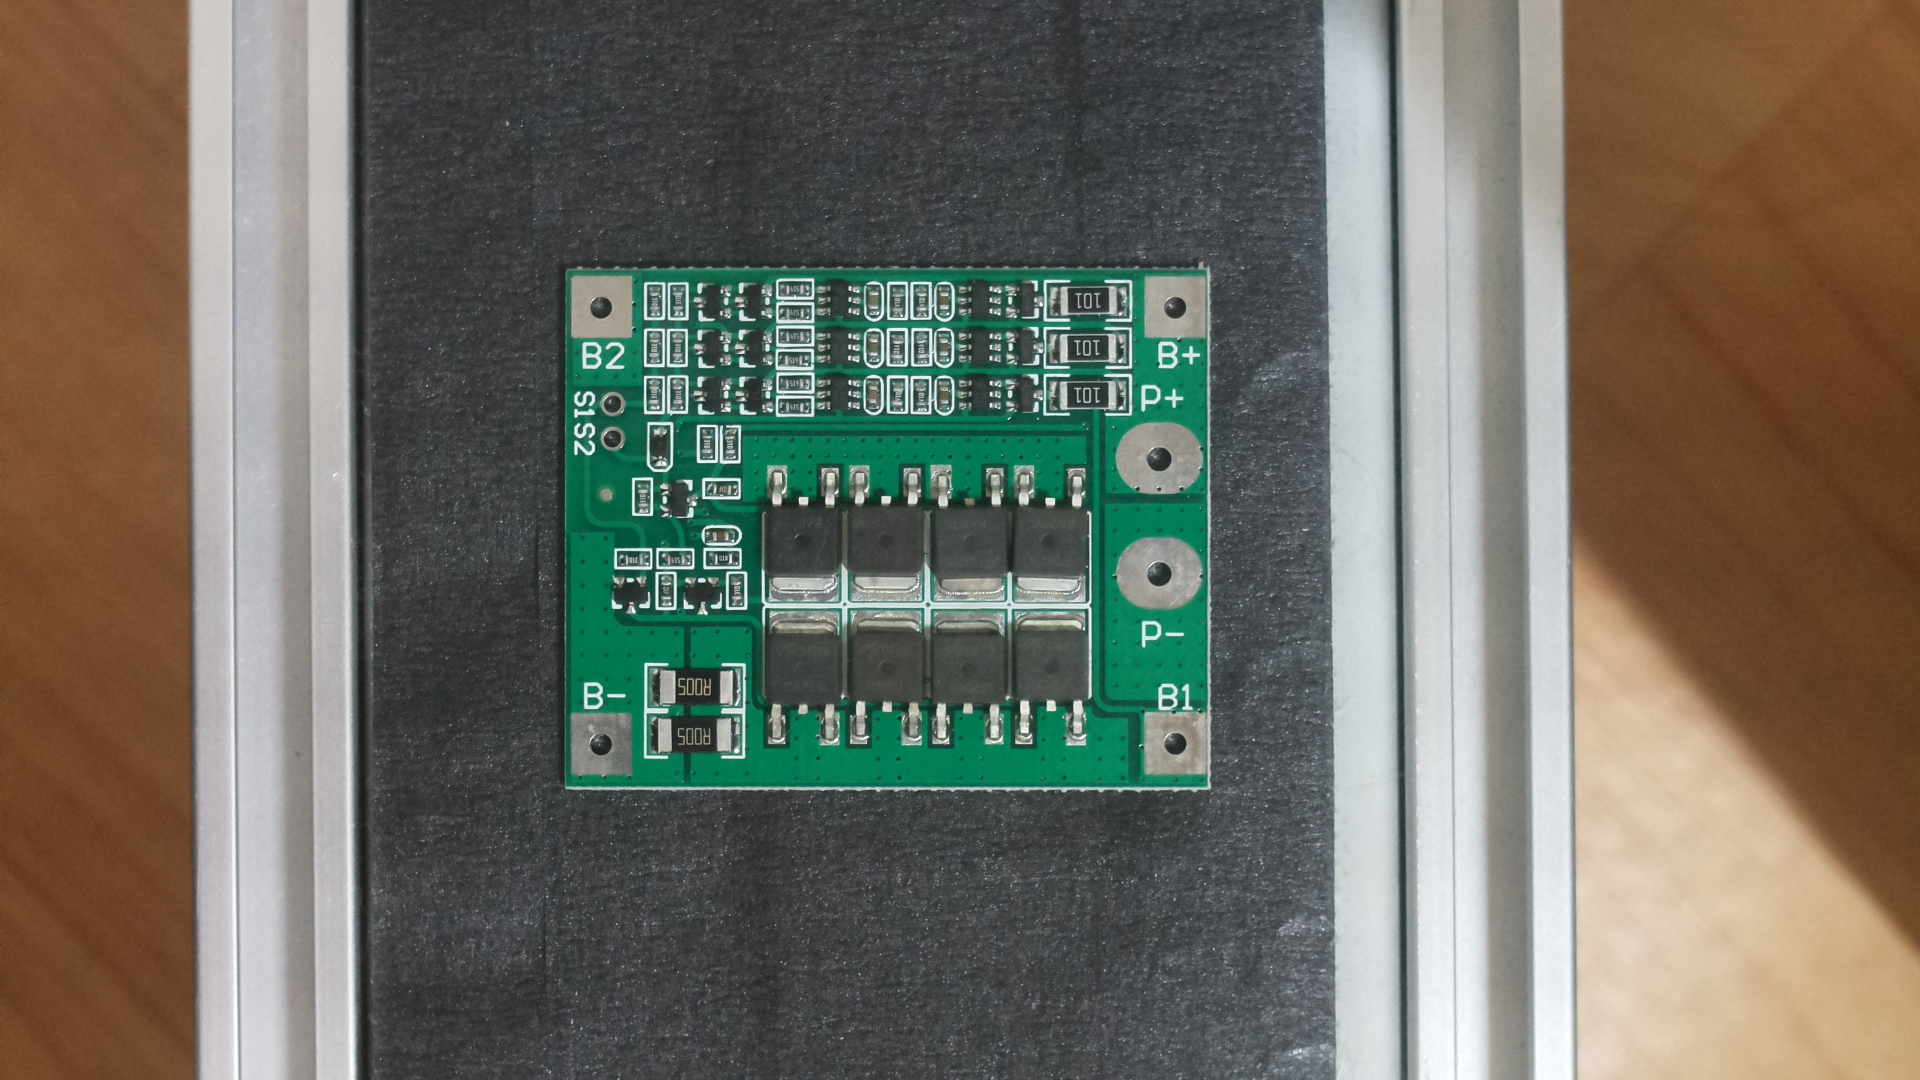C_Normal: (554, 244, 1230, 827)
